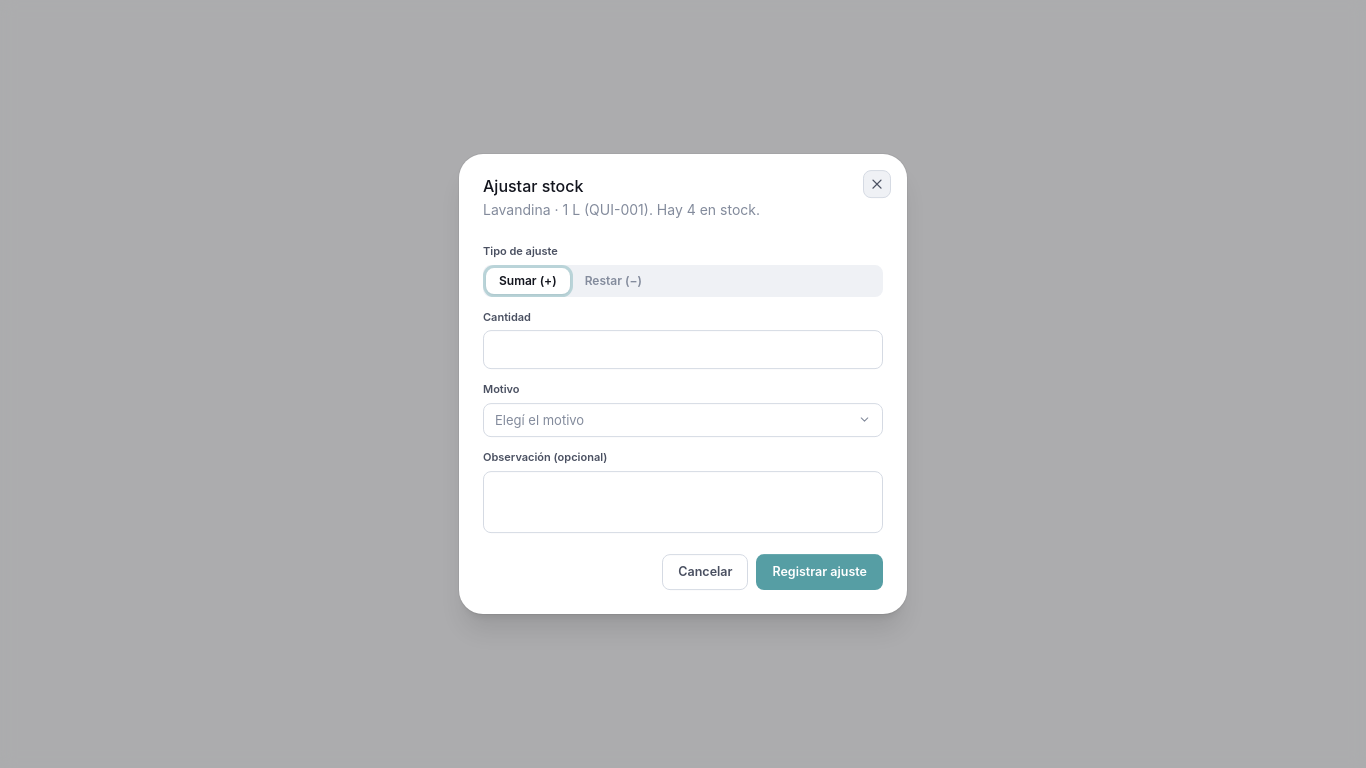
it: AdjustStockDialog (IS-10) › sin motivo ni cantidad no registra y pide los dos
This screenshot has width=1366, height=768.
Click the button "Registrar ajuste": (820, 572) [756,554,883,590]
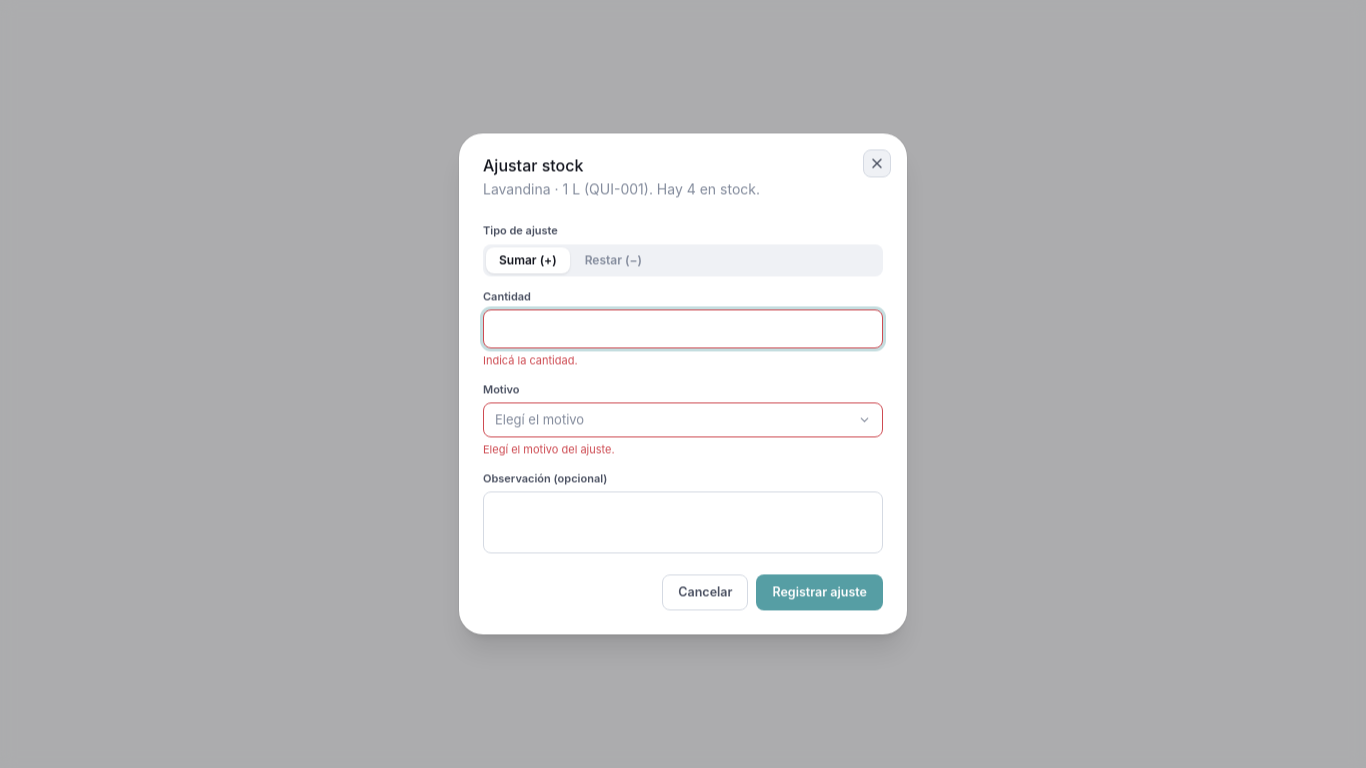
Expected: the text "Elegí el motivo del ajuste." is shown, [483,442,615,456]
